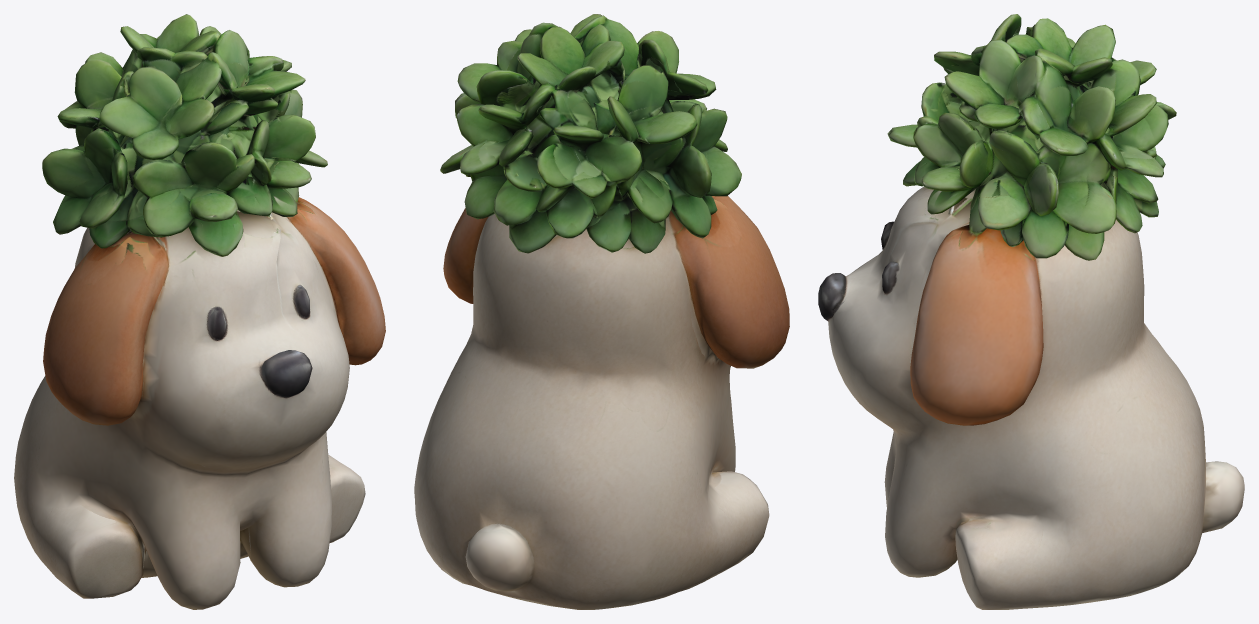
The model's file is P_DecorPot_h55.fbx.
3 views of the same model, side by side, from view 1: azimuth 30°, elevation 25°; view 2: azimuth 150°, elevation 25°; view 3: azimuth 270°, elevation 25° (orthographic).
Parts seen in each view (by area): view 1: texture_mapping; view 2: texture_mapping; view 3: texture_mapping.
Boxes of the visible parts, x1,y1,x2,y2 form: texture_mapping: (14, 14, 385, 609); texture_mapping: (414, 14, 789, 609); texture_mapping: (818, 14, 1244, 609).
Size of the model in its own units: 0.6531 by 0.7542 by 1.
Materials: 1 (1 with a texture image).
